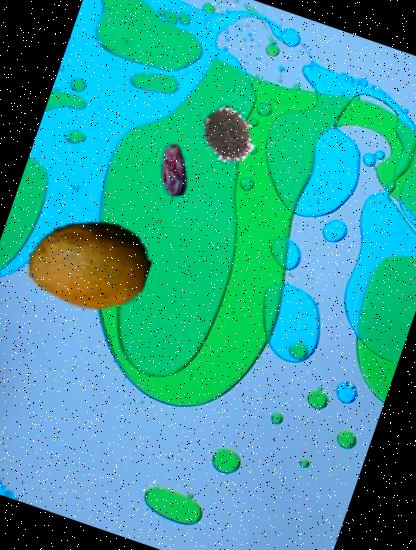Dates: (140, 137, 207, 204)
Papaya: (13, 186, 166, 340)
Rambutan: (194, 98, 264, 170)
